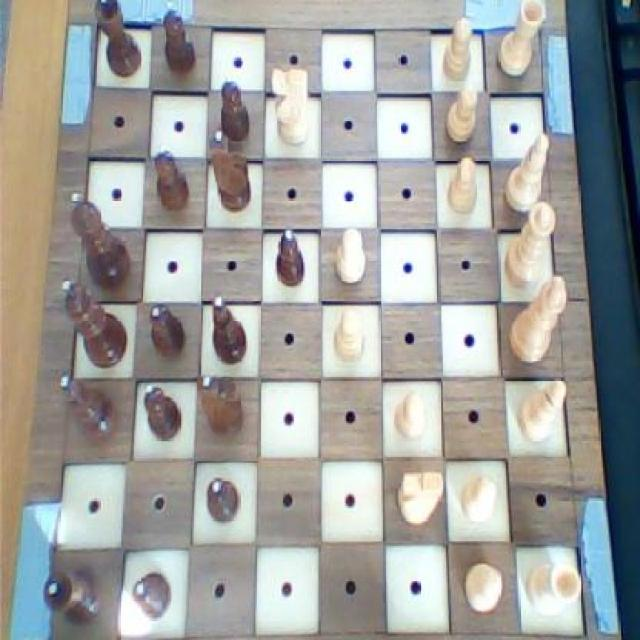bishop: (57, 369, 121, 442), (208, 291, 250, 367)
black-bishop: (58, 276, 128, 368)
black-king: (207, 128, 256, 215), (192, 368, 247, 442)
black-knight: (138, 377, 184, 449), (152, 140, 192, 217), (214, 69, 251, 145), (162, 0, 198, 76), (146, 300, 188, 363), (126, 570, 176, 622), (270, 222, 308, 290), (198, 477, 244, 528)
black-pawn: (66, 188, 136, 293)
black-queen: (92, 0, 147, 80), (40, 566, 103, 627)
black-rook: (501, 128, 557, 222), (511, 376, 571, 452)
white-bishop: (506, 272, 571, 370)
white-king: (266, 62, 312, 150), (397, 466, 446, 529)
white-knight: (329, 218, 371, 288), (438, 82, 482, 148), (460, 555, 505, 617), (443, 152, 481, 222), (438, 12, 474, 84), (456, 471, 500, 527), (391, 383, 431, 443), (330, 302, 368, 362)
white-pawn: (501, 198, 564, 291)
white-queen: (492, 0, 546, 82), (520, 555, 585, 620)
